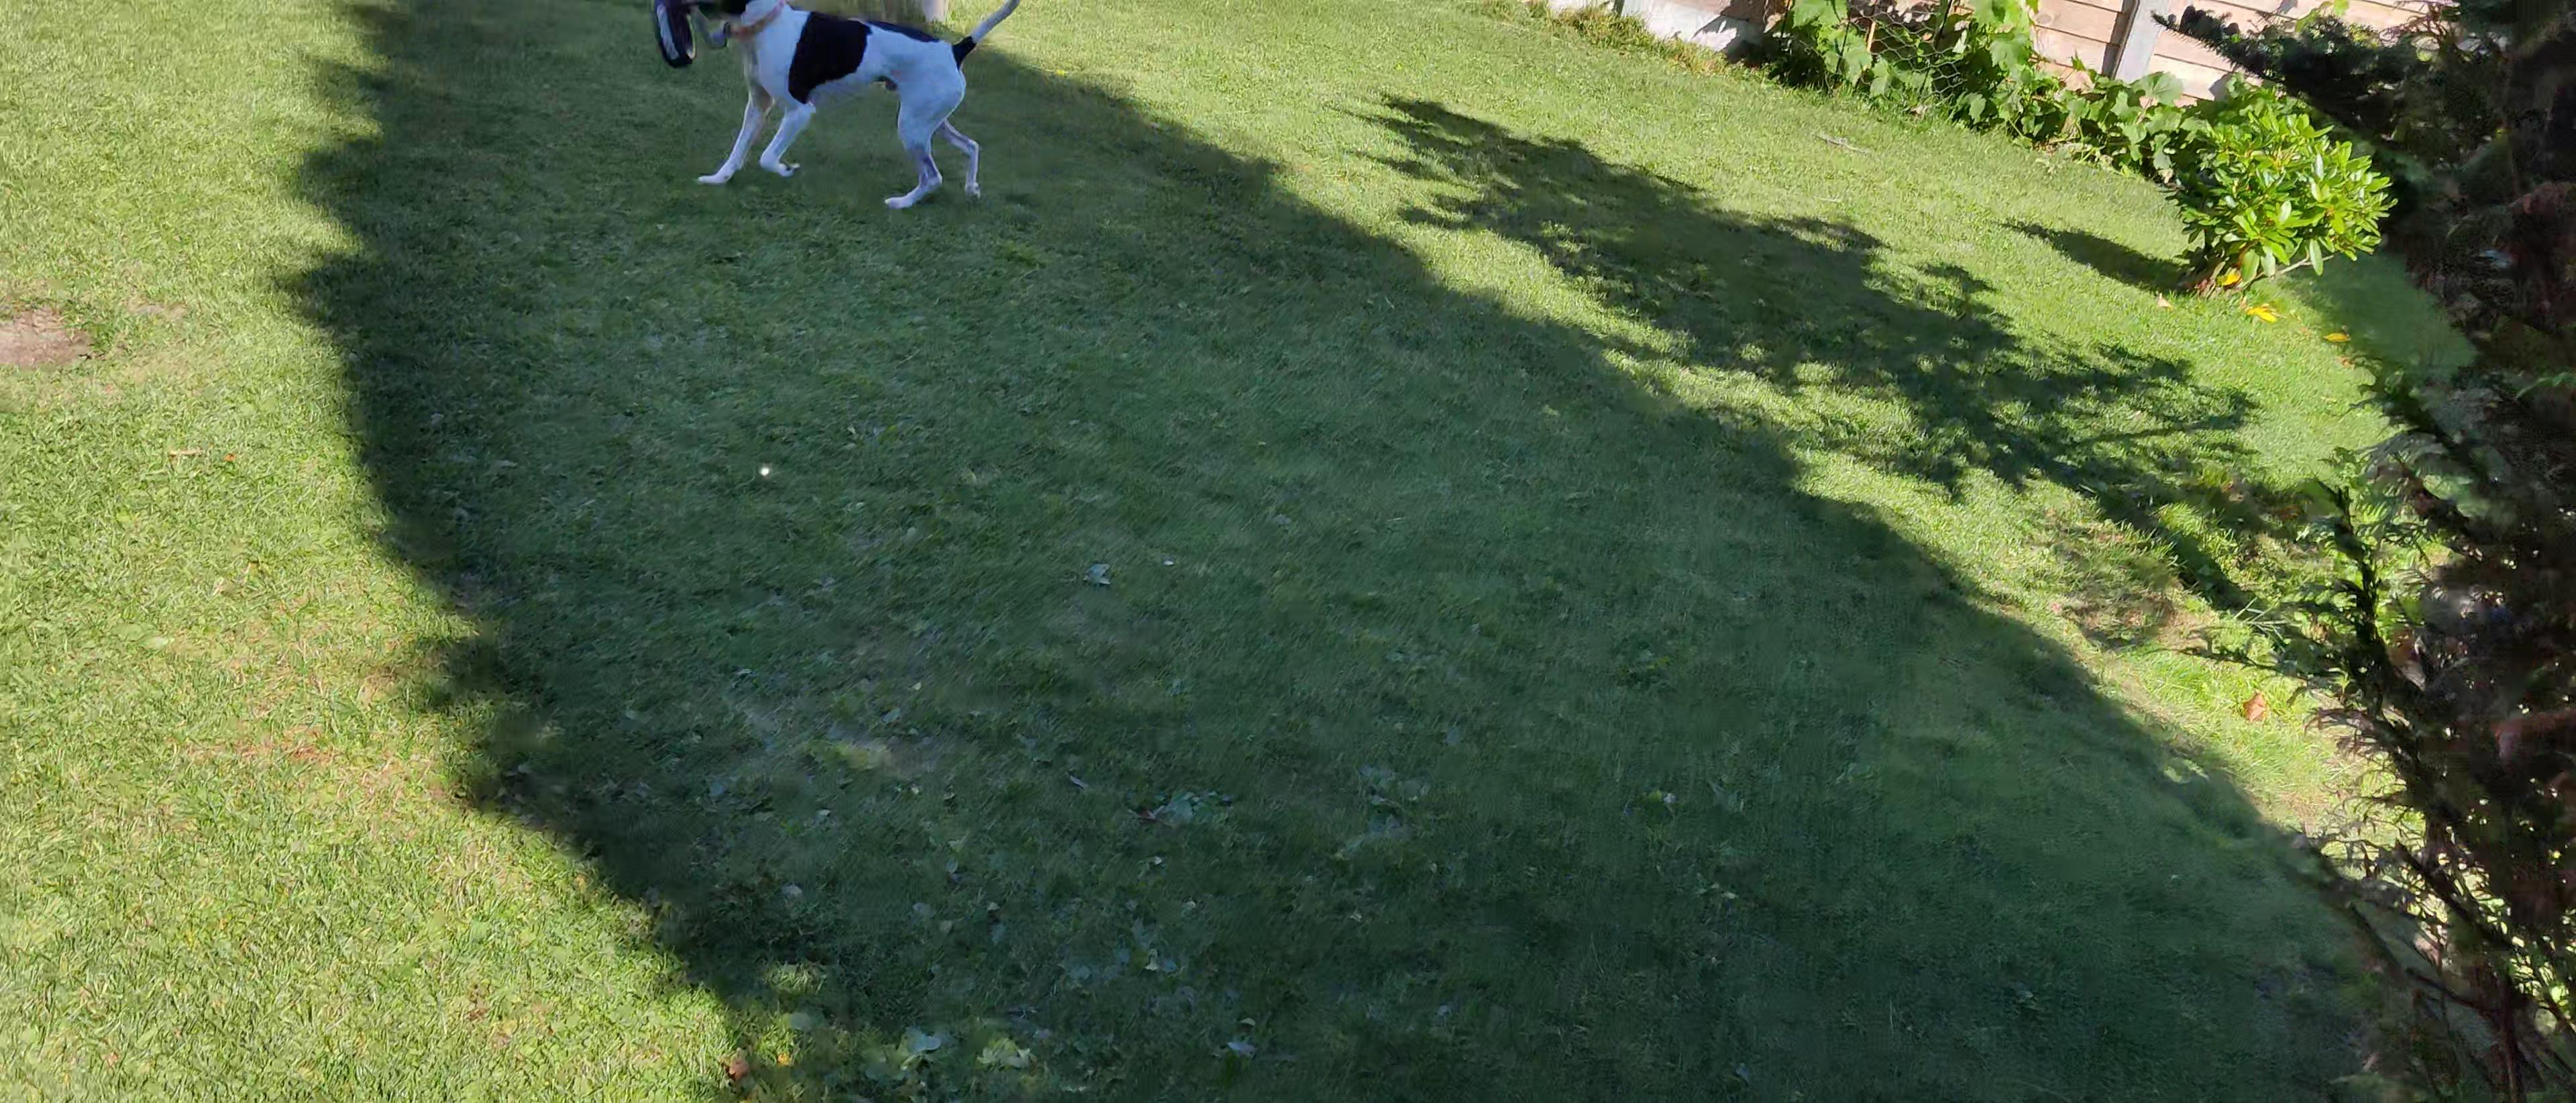Dog: (667, 0, 1065, 232)
